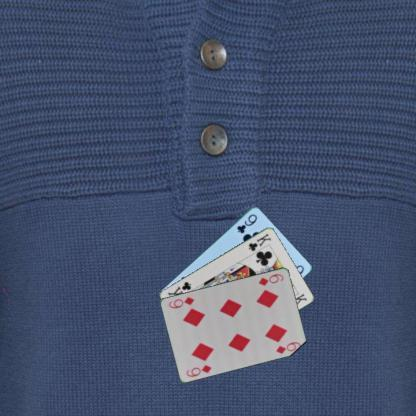6d: (256, 271, 285, 287), (184, 362, 212, 378)
9c: (234, 212, 258, 234)
Kc: (246, 230, 273, 252)
